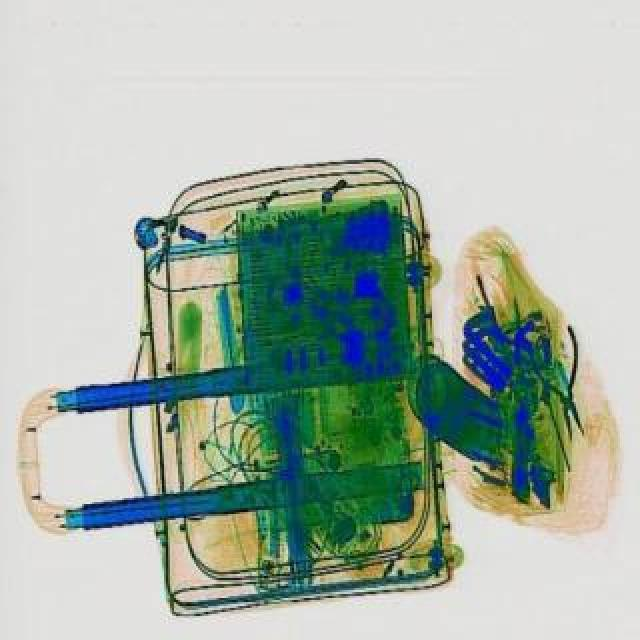wrench: (522, 322, 606, 442)
